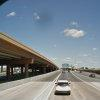Bridge: (3, 26, 56, 71)
